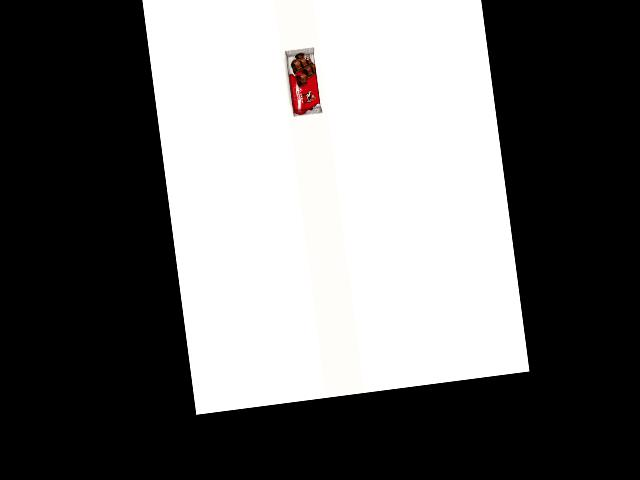chocolate: (279, 45, 324, 118)
